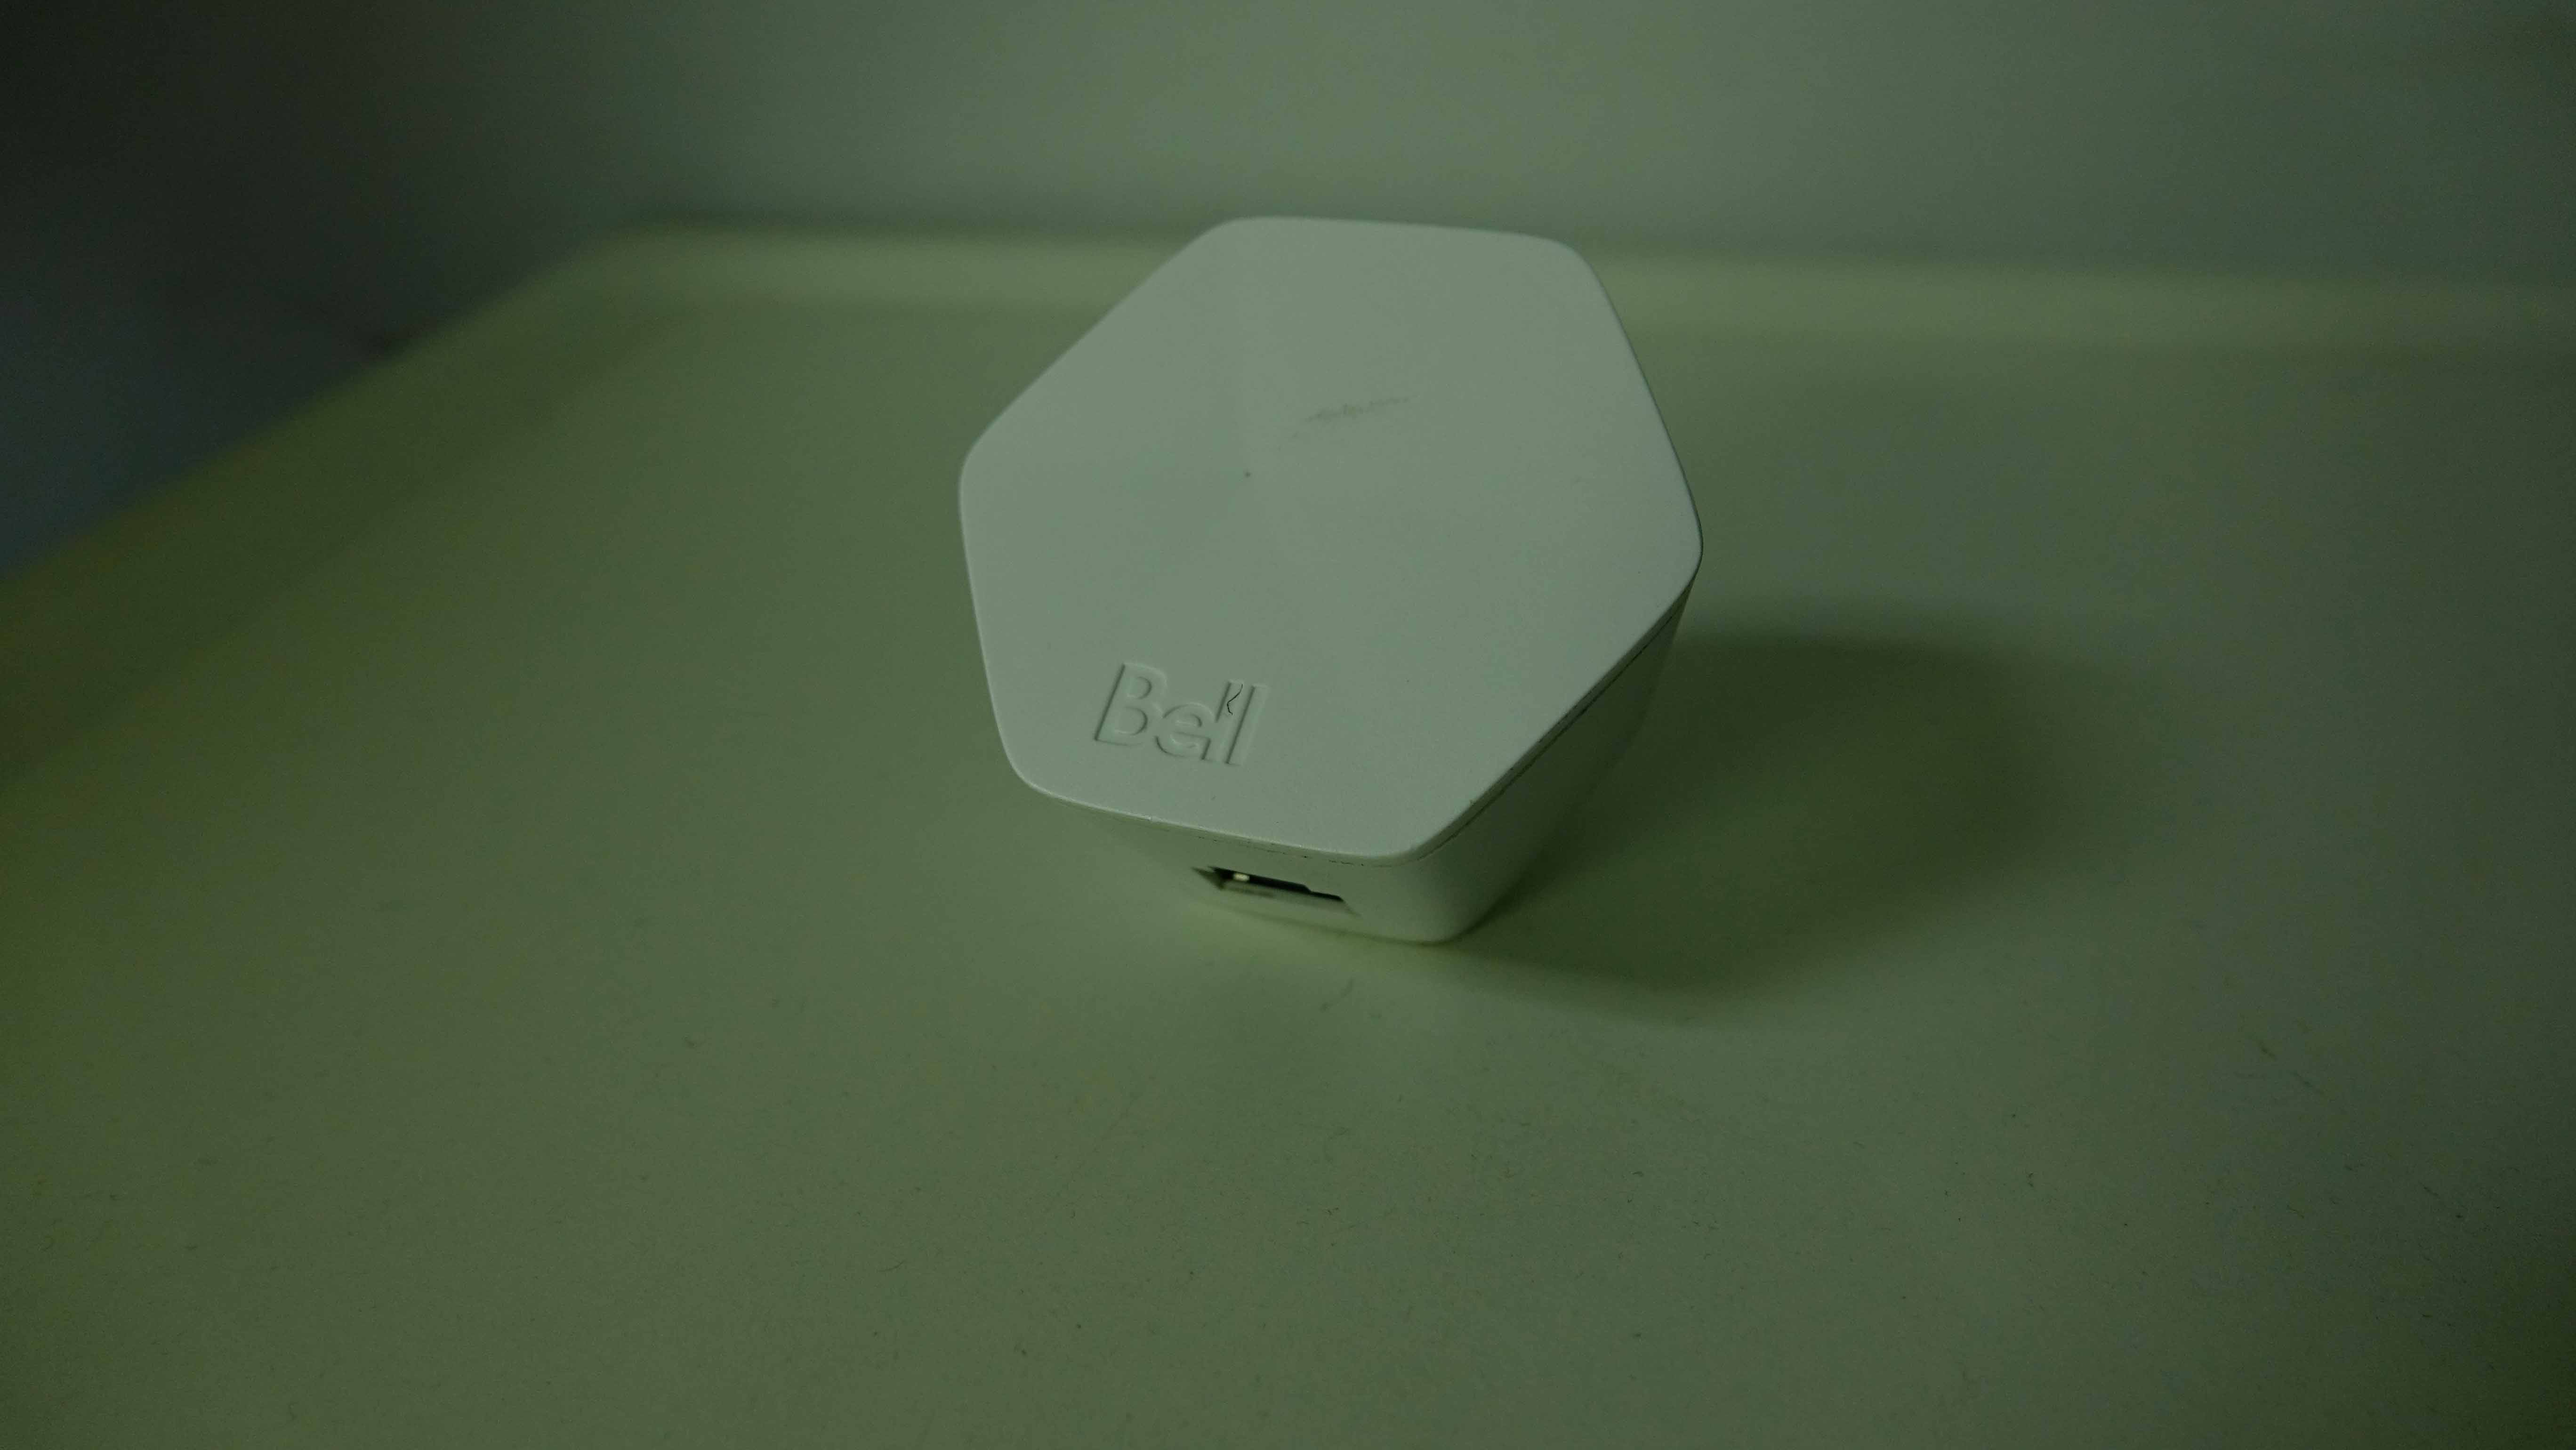pod: (948, 200, 1736, 958)
